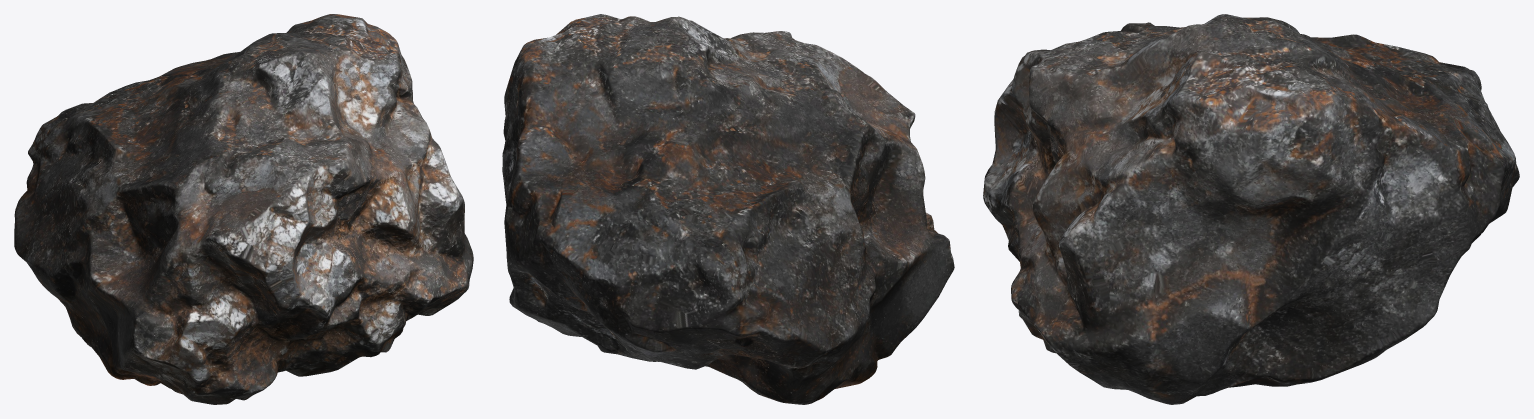
The model's file is moon_rock2.glb.
3 views of the same model, side by side, from view 1: azimuth 30°, elevation 25°; view 2: azimuth 150°, elevation 25°; view 3: azimuth 270°, elevation 25° (orthographic). The views are drawn at different scales.
Visible parts, largest first — view 1: frame; view 2: frame; view 3: frame.
Part boxes in pixels (left/top/right/bottom): frame: left=14, top=14, right=473, bottom=404; frame: left=502, top=14, right=954, bottom=404; frame: left=983, top=14, right=1519, bottom=404.
Bounding box in the file's own units: 2.25 × 1.8 × 2.4.
1 material, 1 textured.
